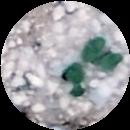Basil: (58, 66, 89, 102), (80, 37, 104, 62), (95, 52, 122, 73)
